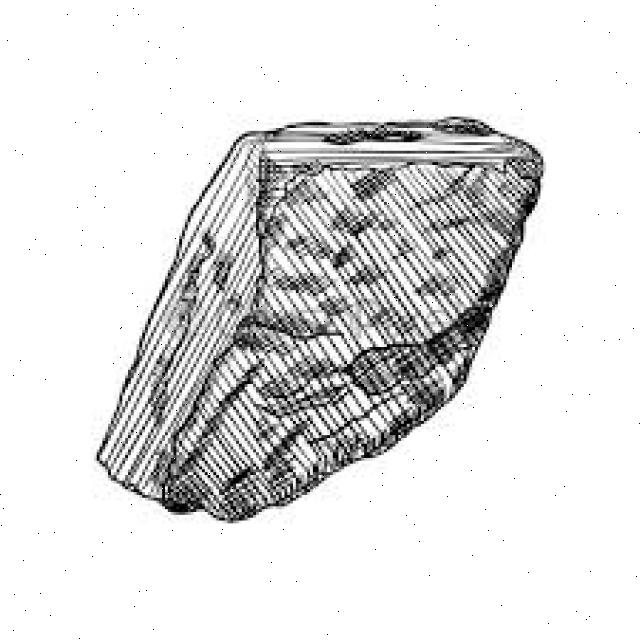Metamorphic: (100, 117, 540, 529)
